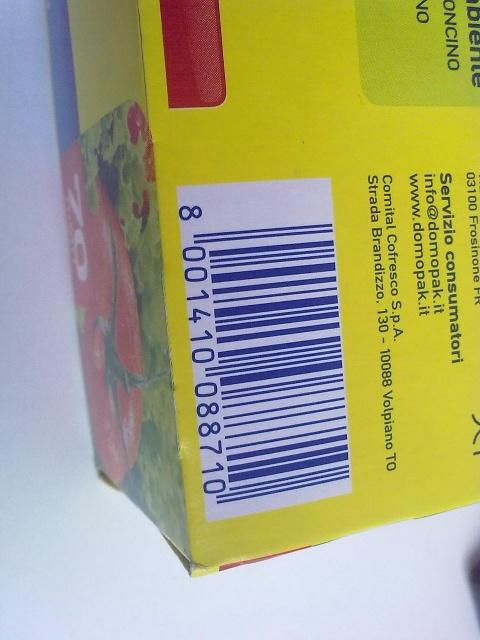Barcode: (173, 188, 352, 510)
